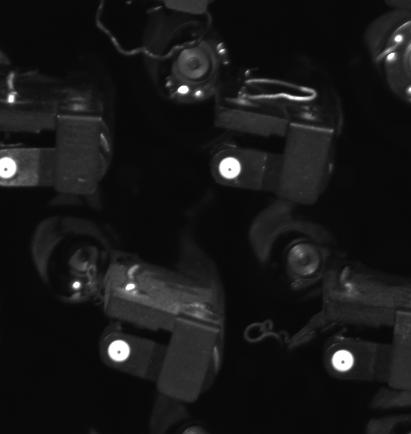fiber: (324, 342, 361, 376), (104, 334, 137, 366), (215, 149, 243, 184), (1, 152, 19, 184)
